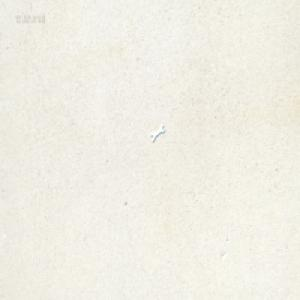Wrench: (150, 124, 165, 141)
